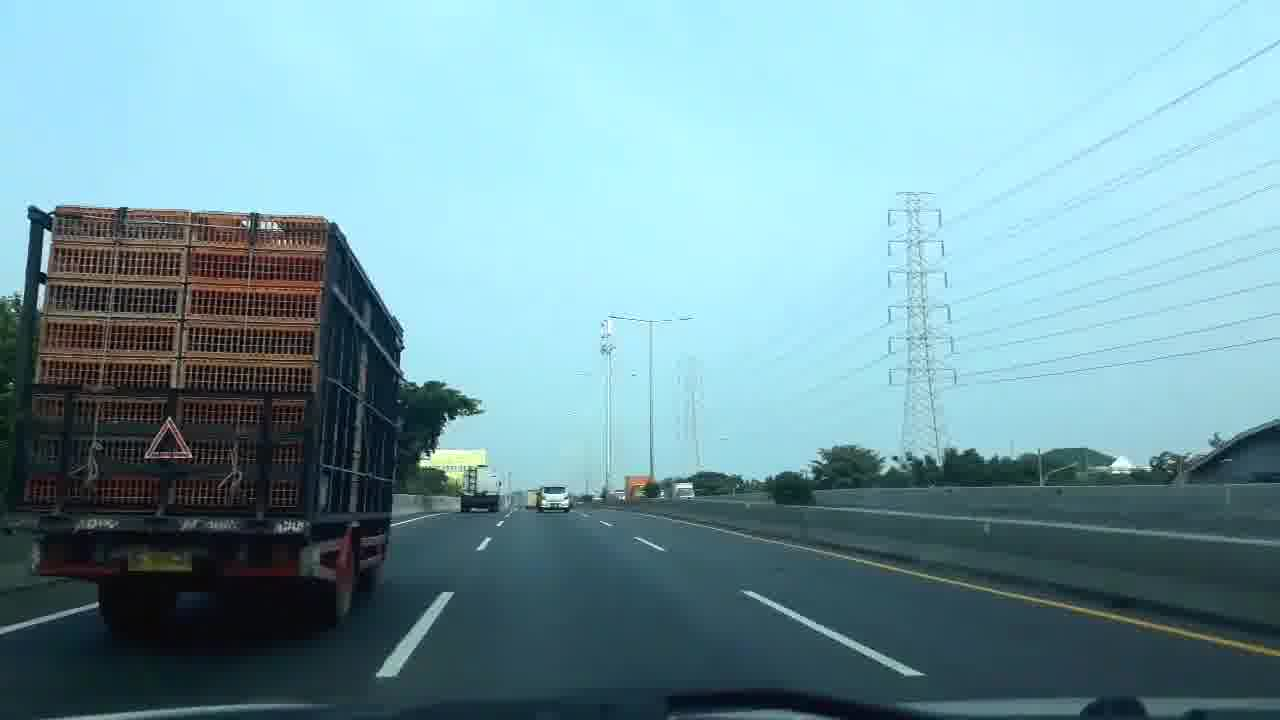plate_positive: (126, 550, 194, 573)
